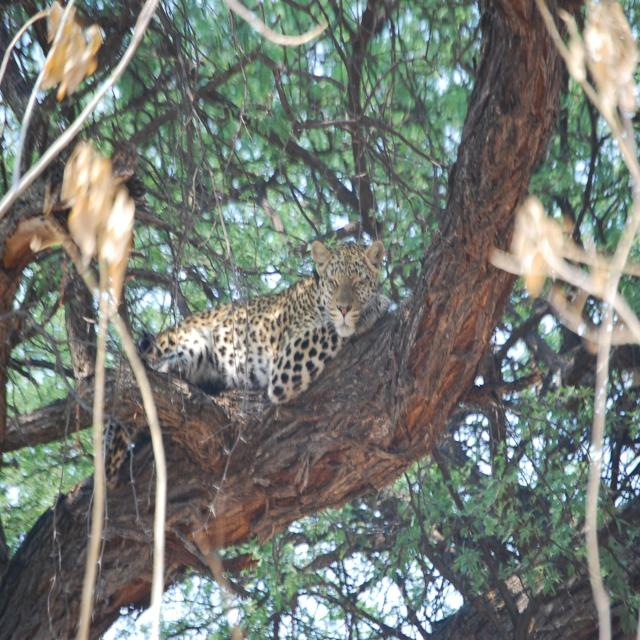Leopard: (108, 248, 394, 492)
